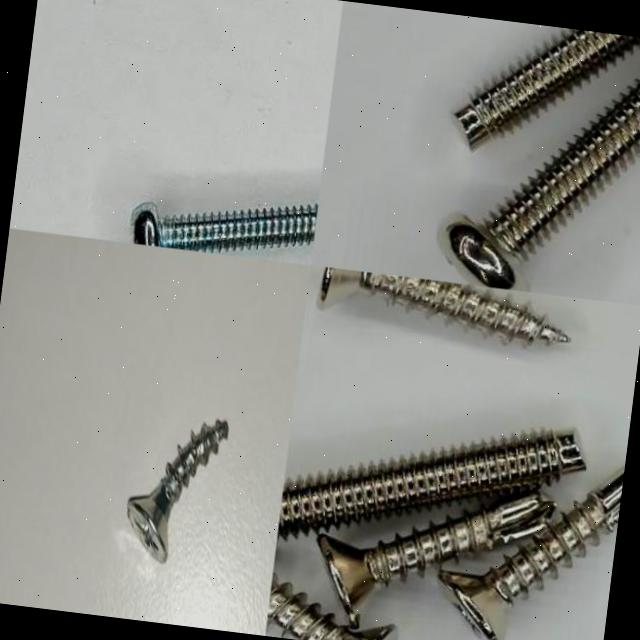Screw: (439, 81, 640, 291), (276, 433, 586, 540), (316, 493, 555, 627), (439, 472, 624, 640), (456, 29, 640, 145), (317, 267, 570, 345), (127, 420, 228, 564), (132, 202, 318, 251), (266, 579, 395, 640)
